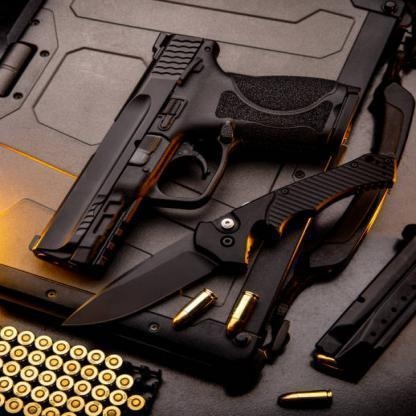Knife: (62, 153, 397, 331)
Pistol: (28, 31, 365, 278)
